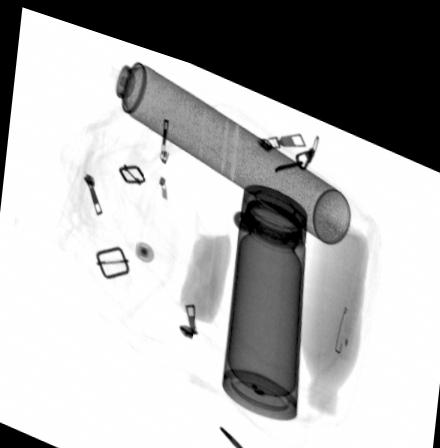Sprayer: (81, 30, 352, 224)
